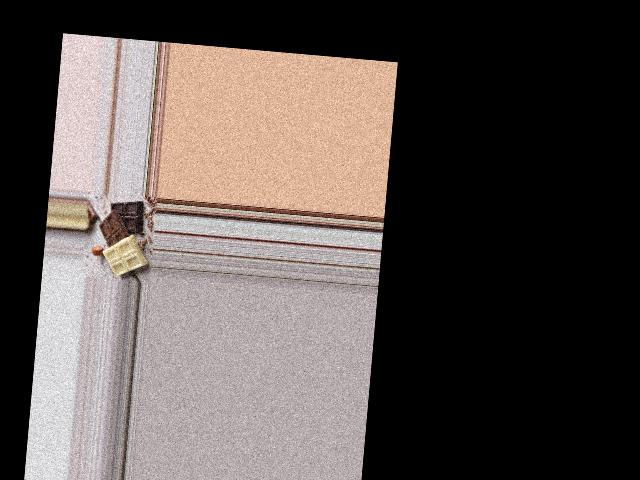chocolate: (94, 194, 149, 278)
